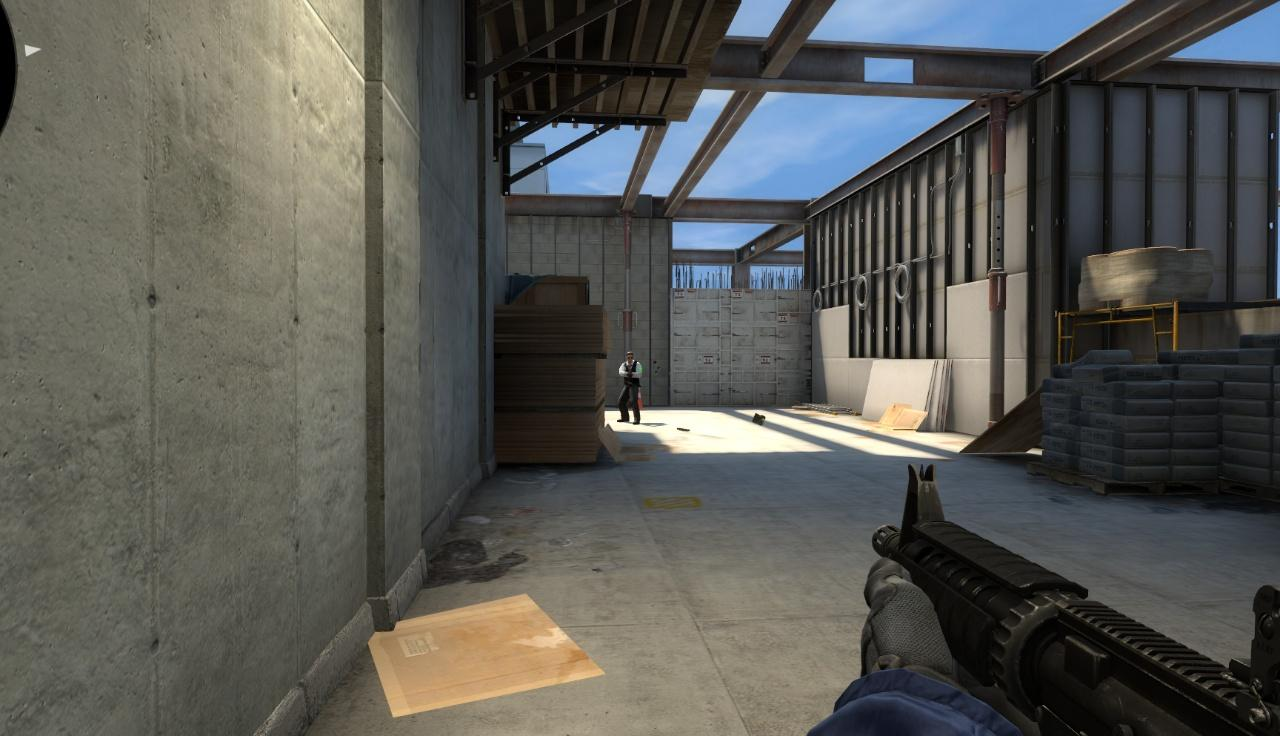rifle: (860, 462, 1280, 736)
tt: (617, 351, 642, 425)
tthead: (626, 352, 634, 364)
